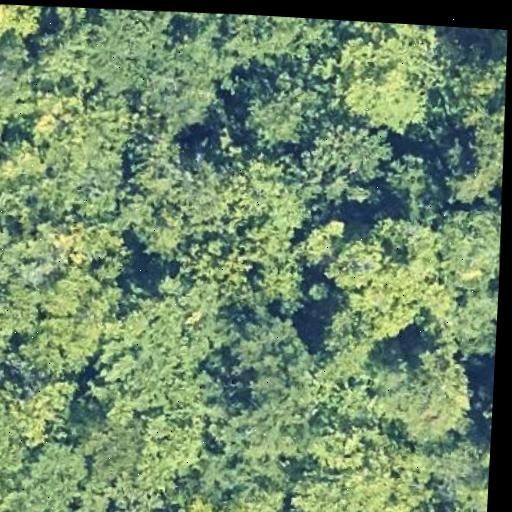tree-top: (120, 128, 295, 247), (86, 6, 230, 134), (101, 275, 230, 410), (286, 420, 441, 512), (328, 212, 443, 336), (328, 20, 442, 140), (364, 342, 487, 453), (204, 368, 313, 487), (77, 405, 194, 512), (6, 265, 118, 376), (22, 88, 134, 196), (437, 54, 509, 208), (294, 111, 398, 208), (231, 61, 327, 157), (216, 300, 315, 390), (0, 411, 87, 512), (424, 198, 503, 291), (212, 13, 337, 69), (423, 425, 491, 512), (2, 371, 78, 447), (428, 280, 499, 361), (291, 207, 355, 277), (0, 38, 41, 144), (167, 481, 288, 512), (0, 206, 28, 301), (0, 3, 56, 46)
